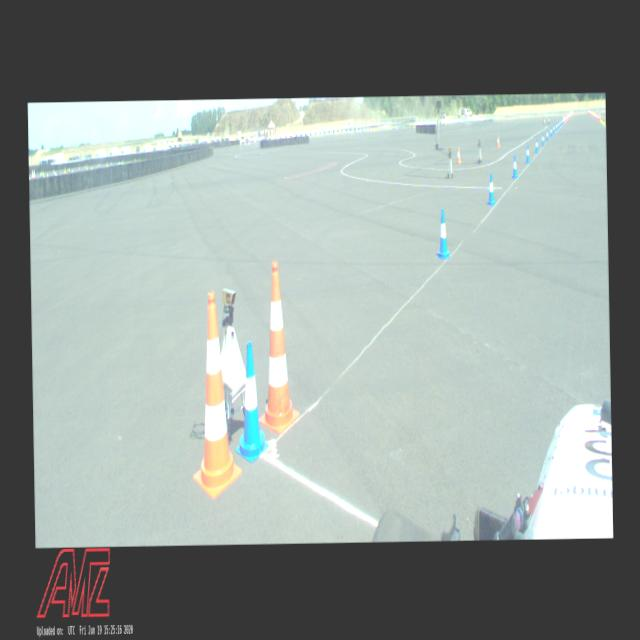blue_cone: (234, 340, 269, 462), (436, 209, 450, 259), (486, 172, 495, 205), (512, 154, 518, 178), (525, 144, 529, 162), (534, 137, 538, 153), (541, 132, 544, 145), (546, 129, 548, 141), (550, 126, 552, 137), (552, 124, 554, 134), (556, 121, 558, 129), (554, 122, 556, 130)
large_orange_cone: (190, 290, 242, 500), (256, 260, 300, 434), (598, 110, 600, 120)
orange_cone: (456, 146, 460, 163), (496, 134, 500, 146)
yellow_cone: (602, 115, 604, 125), (601, 115, 603, 124), (600, 114, 602, 122)
